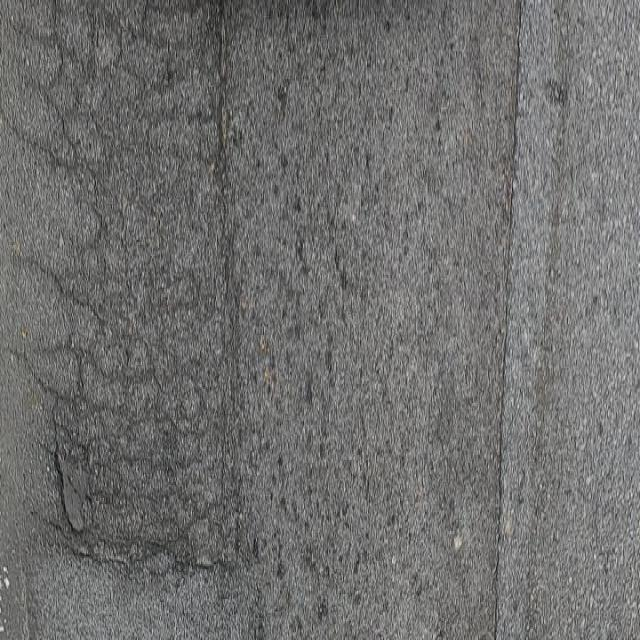cracks: (8, 1, 260, 626), (478, 0, 549, 640)
